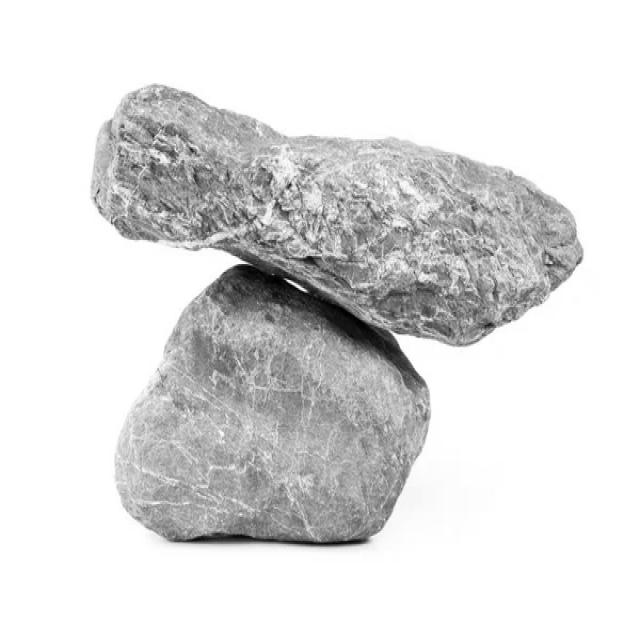Stone: (90, 85, 584, 345), (115, 266, 431, 543)
